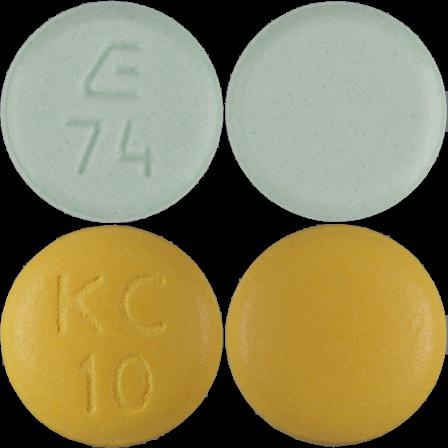67544-225: (0, 0, 224, 224)
